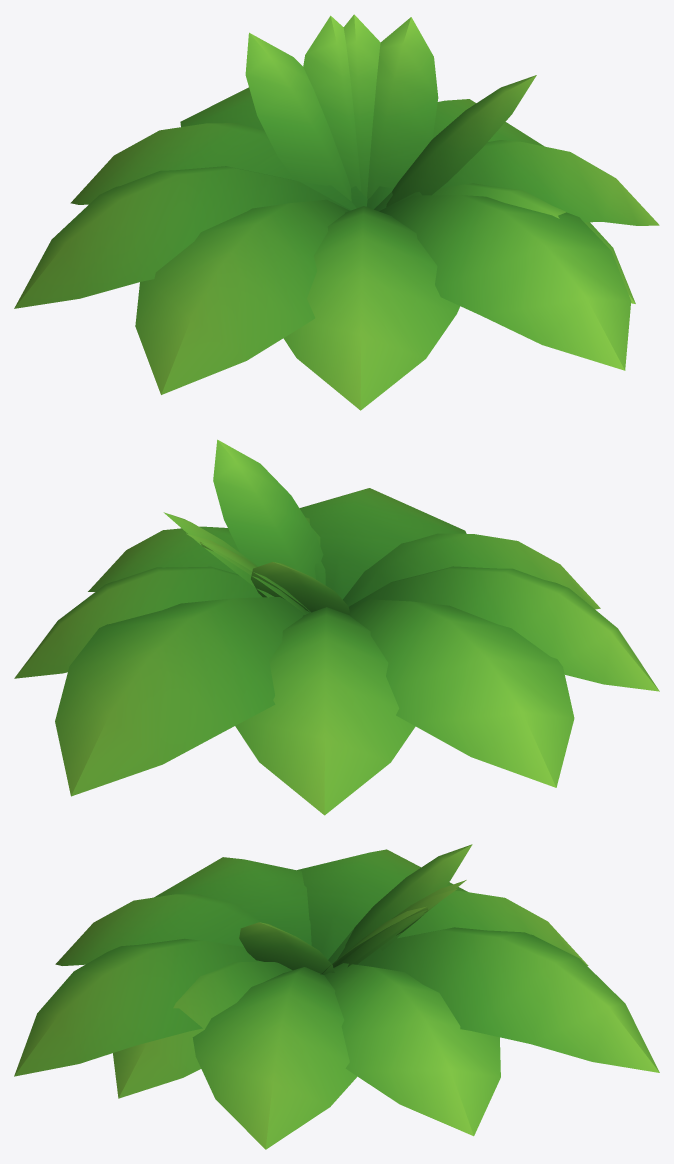
File: Fern_Small.obj
3 views of the same model, one above another, from view 1: azimuth 30°, elevation 25°; view 2: azimuth 150°, elevation 25°; view 3: azimuth 270°, elevation 25° (orthographic). The views are drawn at different scales.
Visible parts, largest first — view 1: Fern_Small; view 2: Fern_Small; view 3: Fern_Small.
Part boxes in pixels (x1,y1,x2,y2): Fern_Small: (14,14,659,410); Fern_Small: (14,439,659,815); Fern_Small: (14,844,659,1149).
Bounding box in the file's own units: 0.6531 × 0.2158 × 0.7003.
1 material, 1 textured.
